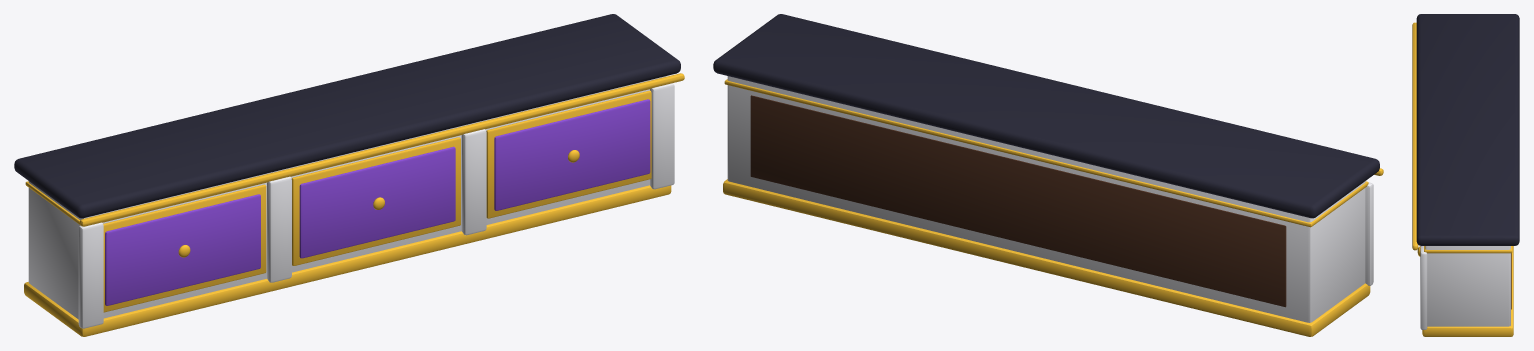
Rendered from PropCounter.fbx.
3 views of the same model, side by side, from view 1: azimuth 30°, elevation 25°; view 2: azimuth 150°, elevation 25°; view 3: azimuth 270°, elevation 25° (orthographic). The views are drawn at different scales.
Visible parts, largest first — view 1: DarkMarble, Accent, Gold, Marble; view 2: DarkMarble, DarkWood, Marble, Gold; view 3: DarkMarble, Marble, Gold.
Boxes of the visible parts, bbox=[...] form: DarkMarble: bbox=[14, 14, 680, 218]; Accent: bbox=[105, 99, 650, 305]; Gold: bbox=[24, 73, 684, 336]; Marble: bbox=[28, 76, 674, 328]; DarkMarble: bbox=[713, 14, 1379, 218]; DarkWood: bbox=[750, 95, 1286, 307]; Marble: bbox=[727, 76, 1373, 322]; Gold: bbox=[723, 79, 1383, 336]; DarkMarble: bbox=[1416, 14, 1519, 245]; Marble: bbox=[1420, 246, 1510, 329]; Gold: bbox=[1412, 22, 1513, 336].
Size of the model in its own units: 1860 by 400 by 375.
